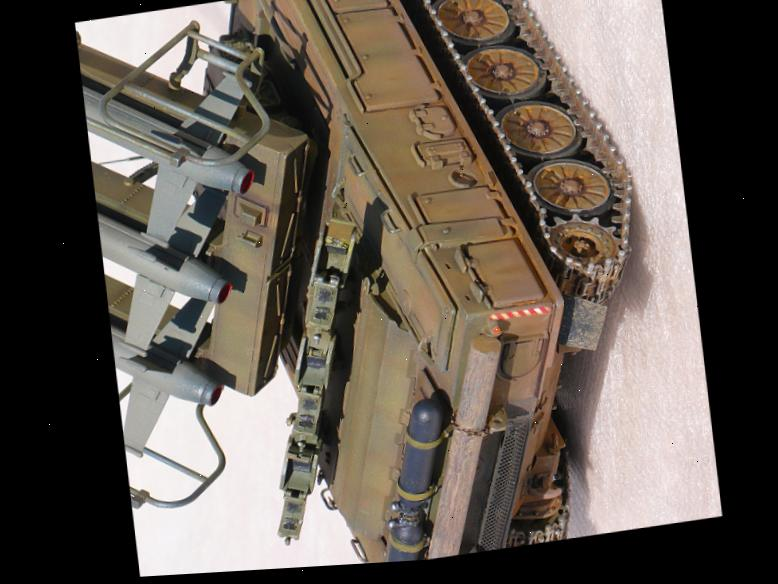armored_car: (72, 0, 679, 580)
